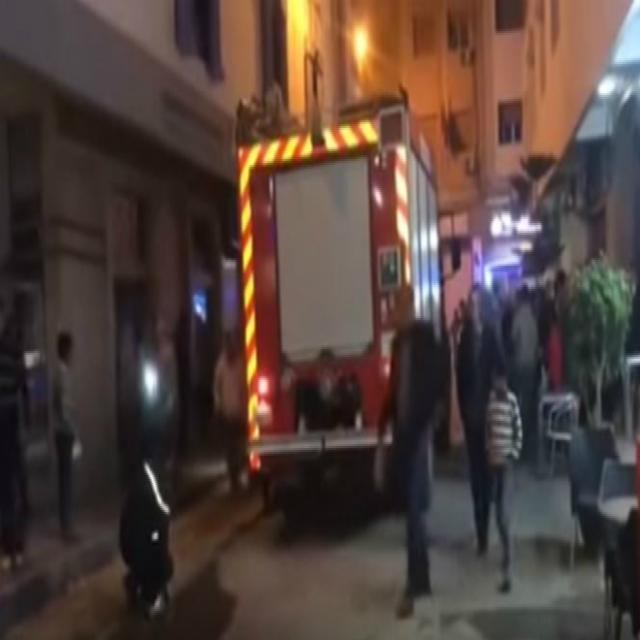Protection Civile: (230, 72, 460, 536)
